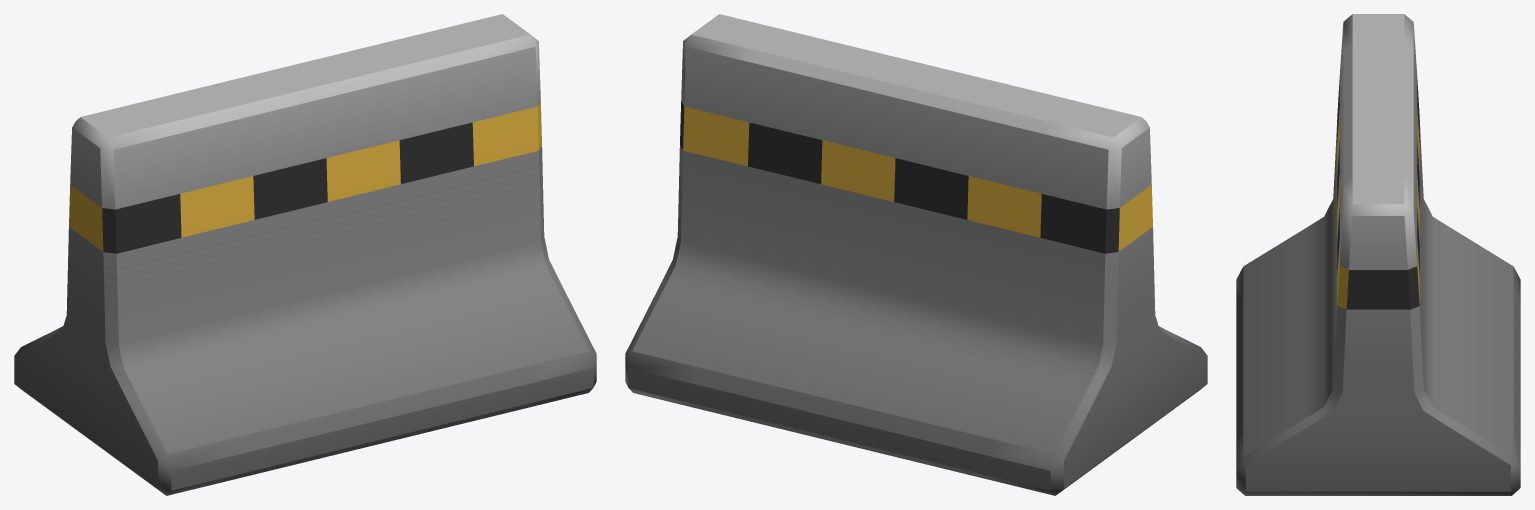
The model's file is roadblock1.glb.
3 views of the same model, side by side, from view 1: azimuth 30°, elevation 25°; view 2: azimuth 150°, elevation 25°; view 3: azimuth 270°, elevation 25° (orthographic). The views are drawn at different scales.
Visible parts, largest first — view 1: Cube; view 2: Cube; view 3: Cube.
Part boxes in pixels (left/top/right/bottom): Cube: left=14, top=14, right=596, bottom=495; Cube: left=625, top=14, right=1207, bottom=495; Cube: left=1236, top=14, right=1520, bottom=495.
Size of the model in its own units: 2 by 1.37 by 1.21.
Materials: 1 (1 with a texture image).
